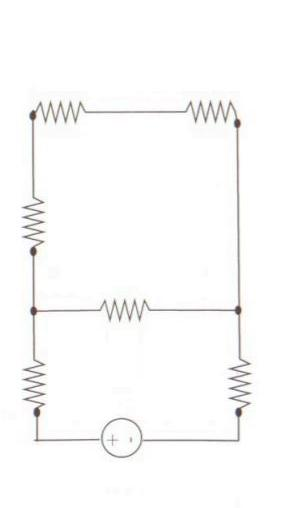resistor: (212, 340, 257, 444), (171, 81, 237, 141), (14, 338, 55, 433), (29, 89, 108, 129), (13, 184, 50, 257), (84, 285, 165, 318)
